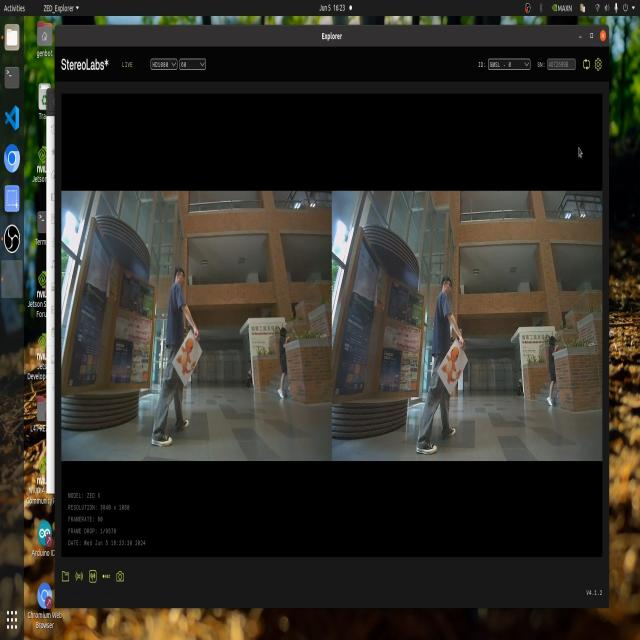red: (437, 344, 466, 403), (178, 330, 205, 380)
